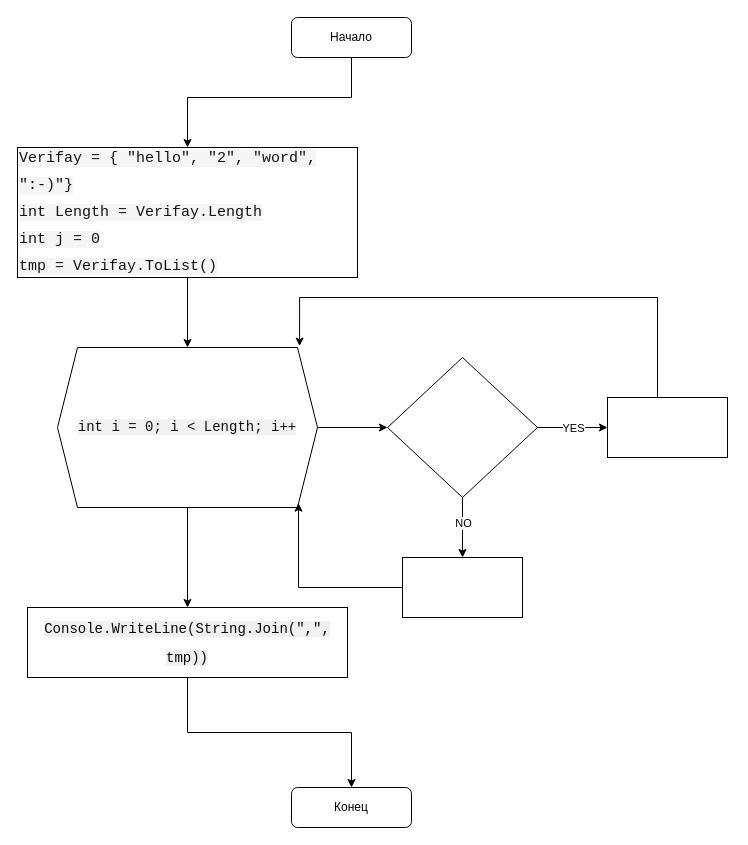
The diagram is 748 pixels wide and 845 high, and some of its shapes have lost their labels. Each missing label, with the centre of its shape:
j++: the point at 462,587
tmp.RemoveAt(j): the point at 667,427
tmp[j].Length > 3: the point at 462,427
